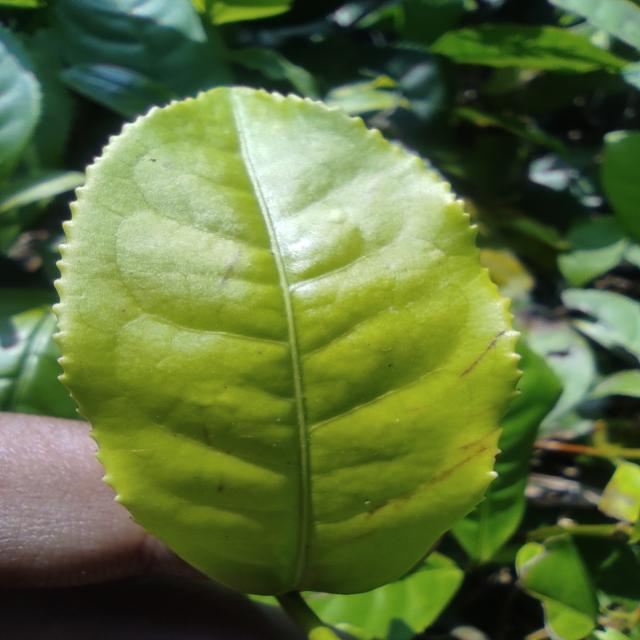Category C 4-7 days: (43, 51, 534, 640)
